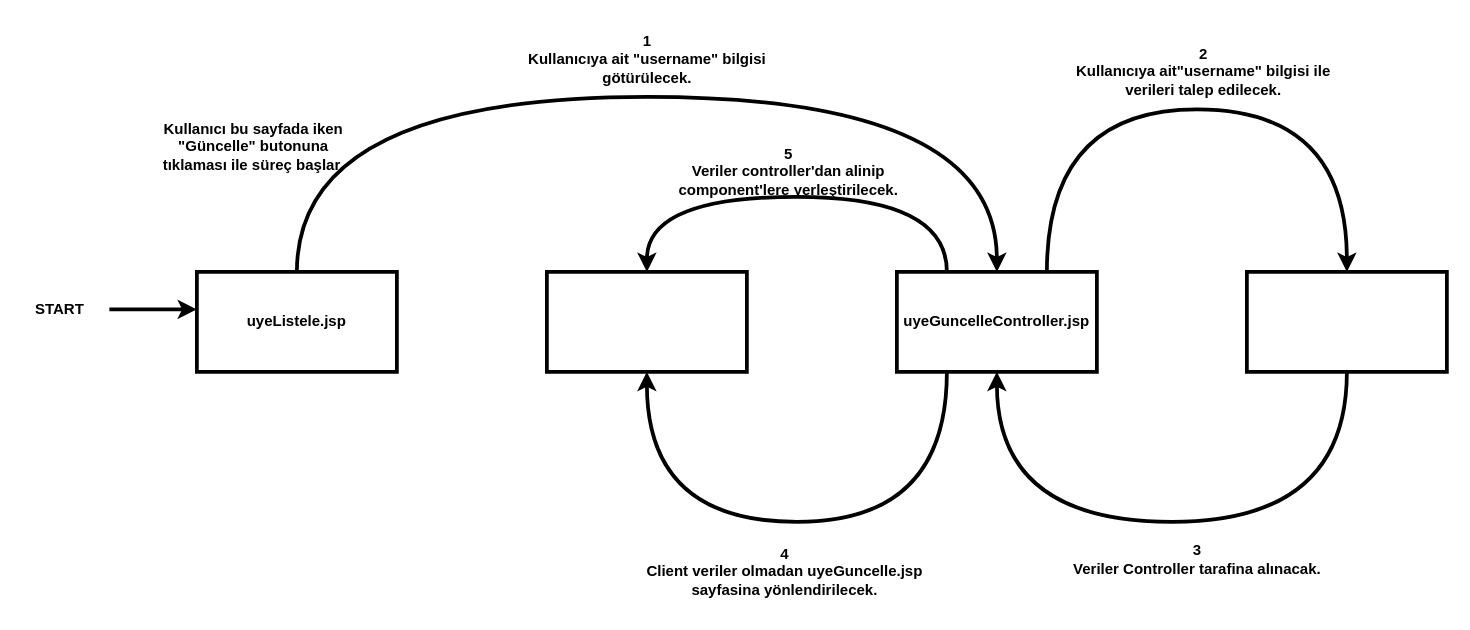
Image size: 1470x630. Some labels were removed from this diagram. The shapes that lost their labels are listed below. From the top down, each one's centre as x and y in pixels, then its label:
At (x=646, y=321): "uyeGuncelle.jsp".
At (x=1346, y=321): "uyeModel.java".
